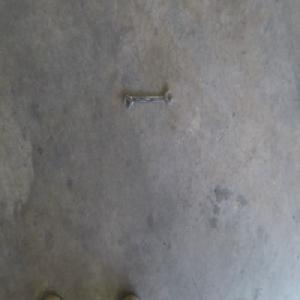Wrench: (123, 90, 173, 110)
